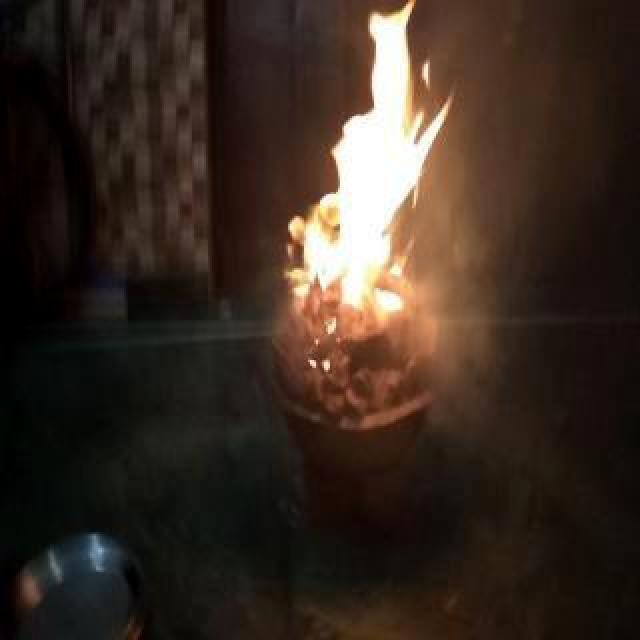Fire: (288, 2, 456, 354)
Smoke: (424, 2, 599, 374)
